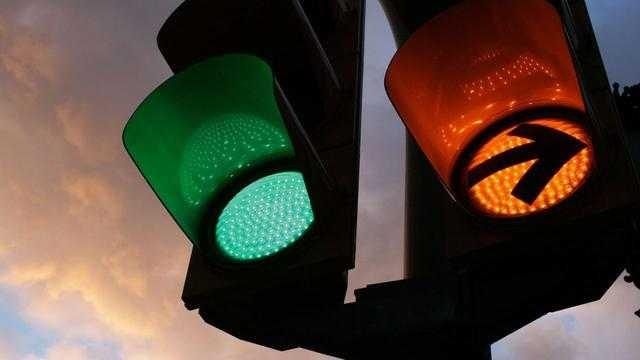green: (122, 57, 353, 279)
red: (385, 3, 628, 218)
